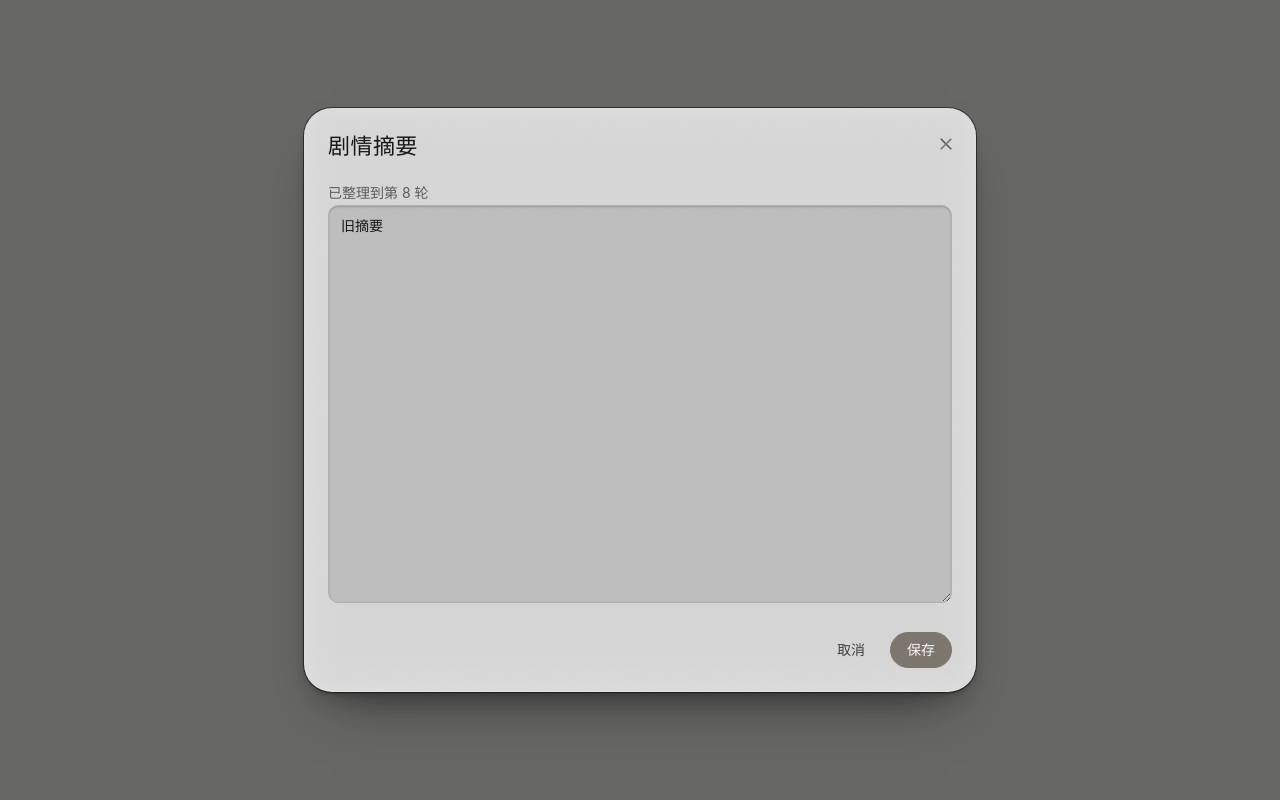
MiddleSummaryModal › 保存失败（会话尚无剧情记录，409）时显示错误提示
The width and height of the screenshot is (1280, 800).
Check: the text box showing "旧摘要" is shown, box [328,205,952,604]
Click the button "保存" at (921, 650), box [890,632,952,668]
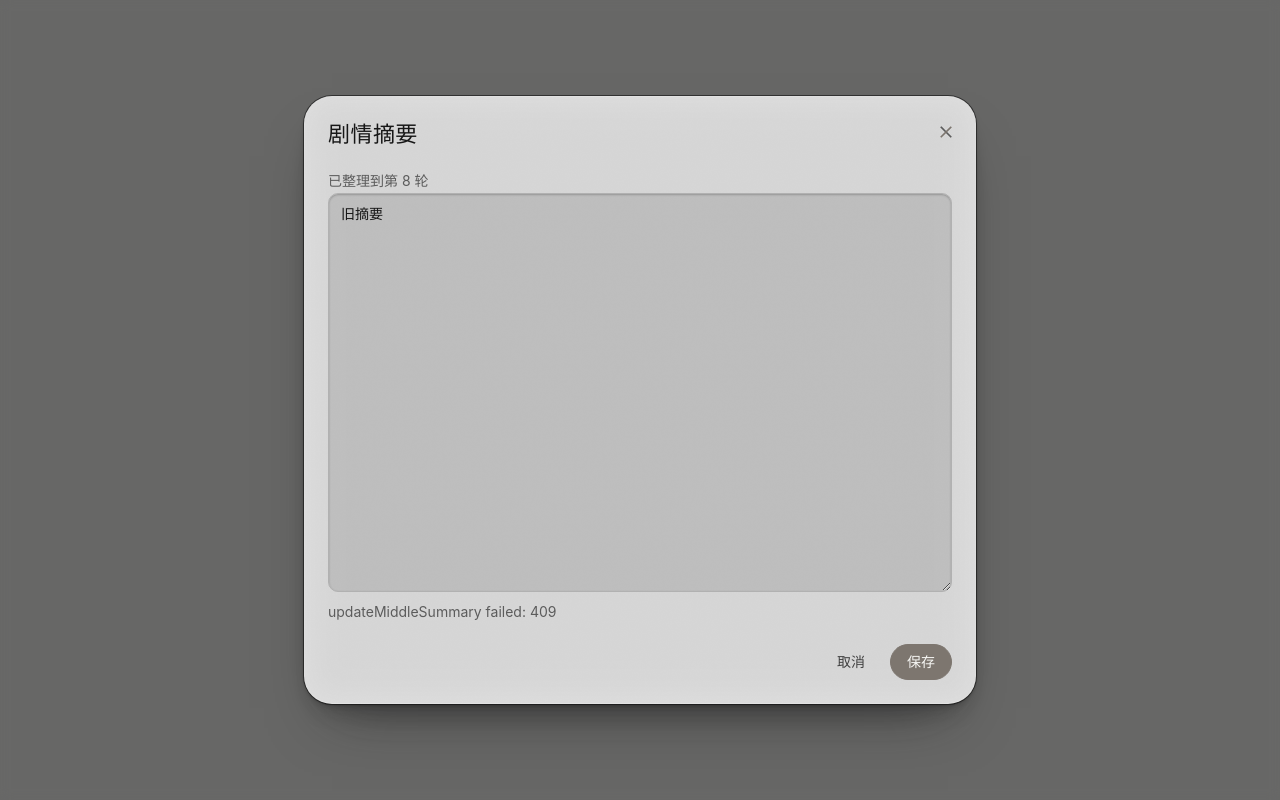
Check: the text "updateMiddleSummary failed: 409" is shown, box [328,603,556,620]
